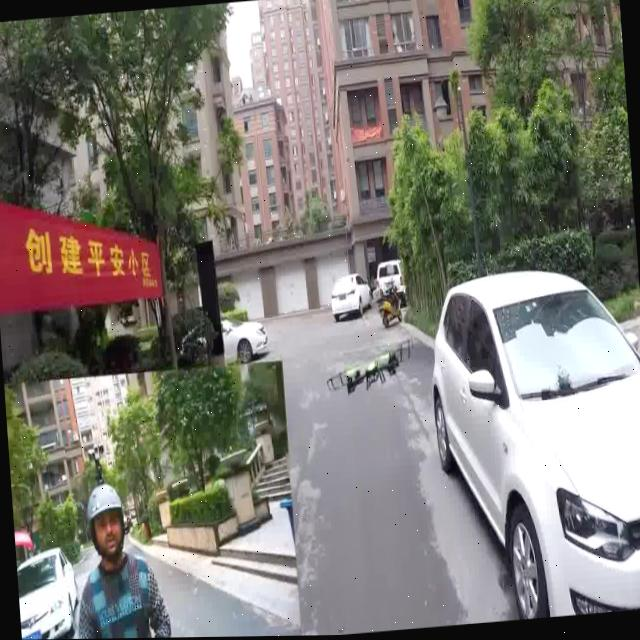drone: (310, 328, 420, 421)
